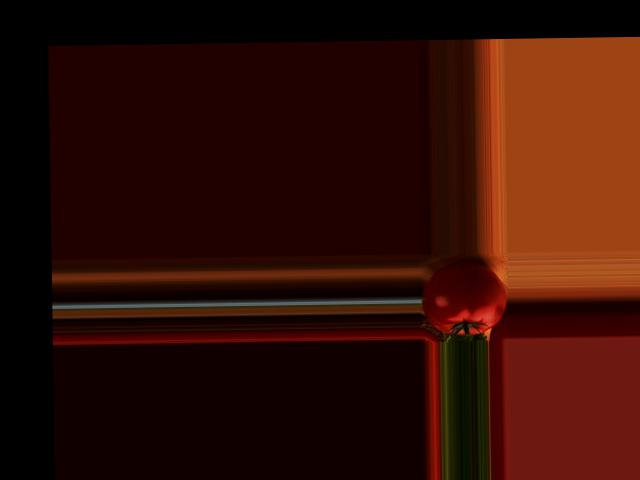tomato: (422, 261, 507, 335)
